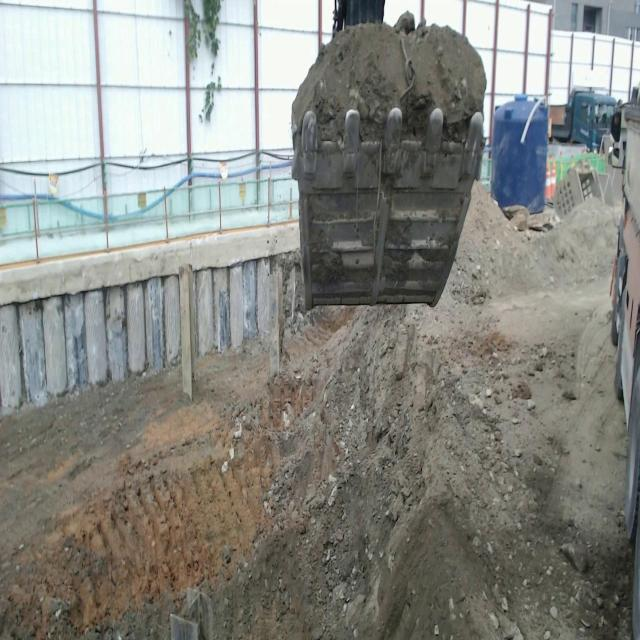cement: (0, 221, 299, 305)
red-sand: (0, 182, 632, 639), (292, 24, 486, 140)
